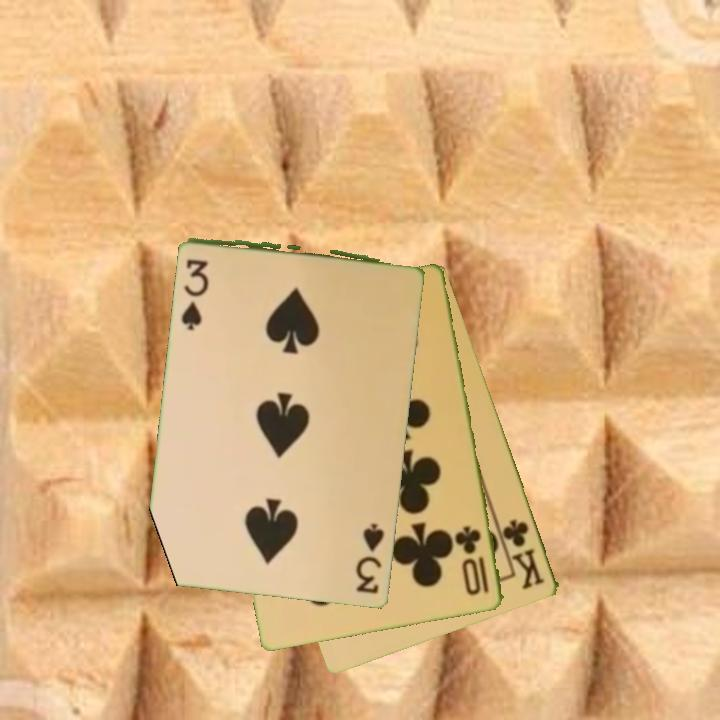10c: (453, 523, 493, 599)
3s: (353, 520, 388, 597), (178, 256, 212, 329)
Kc: (500, 516, 549, 592)
